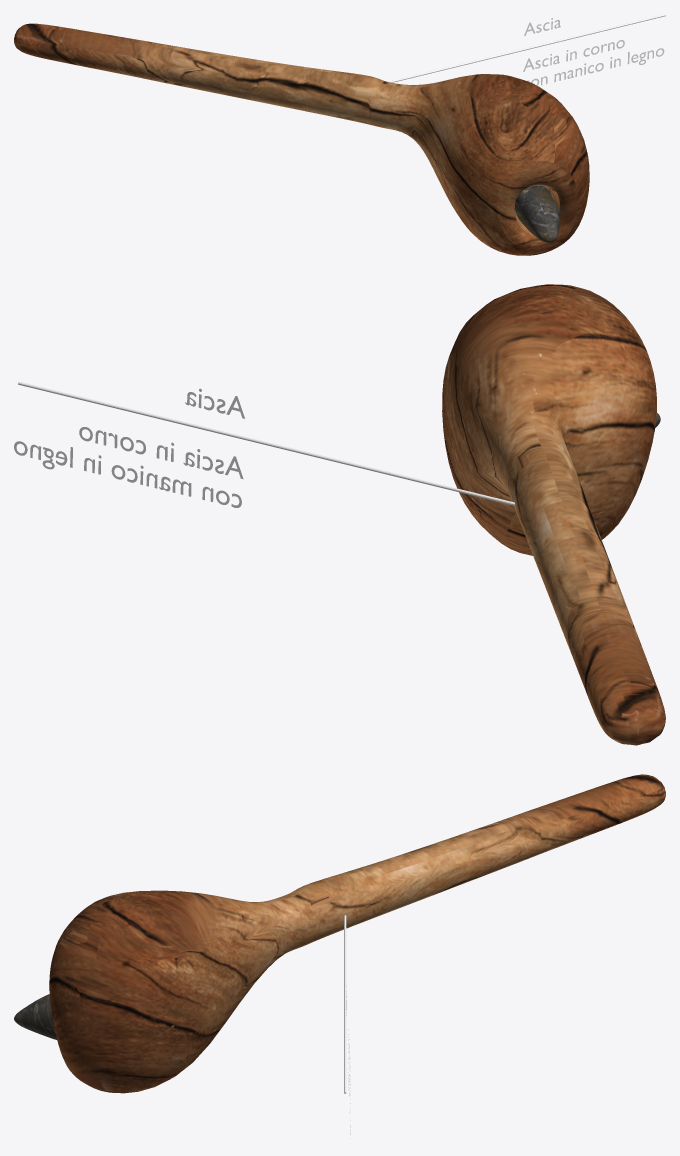
Rendered from Ascia2.gltf.
The picture shows the model from 3 angles, top to bottom: view 1: azimuth 30°, elevation 25°; view 2: azimuth 150°, elevation 25°; view 3: azimuth 270°, elevation 25°; orthographic projection. The views are drawn at different scales.
Visible parts, largest first — view 1: Cilindro, Text, riga; view 2: Cilindro, Text, riga; view 3: Cilindro.
Part boxes in pixels (bbox=[...]): Cilindro: bbox=[14, 23, 589, 255]; Text: bbox=[523, 18, 664, 85]; riga: bbox=[388, 14, 665, 82]; Cilindro: bbox=[442, 284, 665, 745]; Text: bbox=[14, 388, 244, 507]; riga: bbox=[18, 381, 515, 505]; Cilindro: bbox=[14, 774, 665, 1093].
Size of the model in its own units: 5.99 by 1.74 by 5.47.
2 materials, 1 textured.
